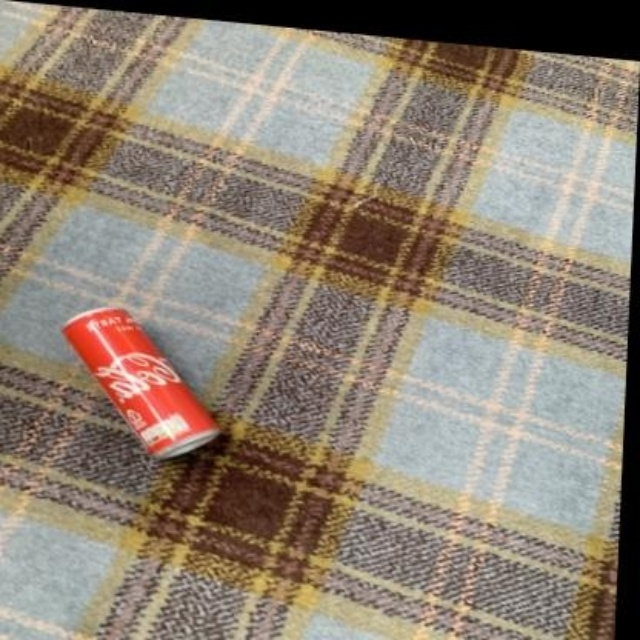trash: (63, 308, 218, 457)
